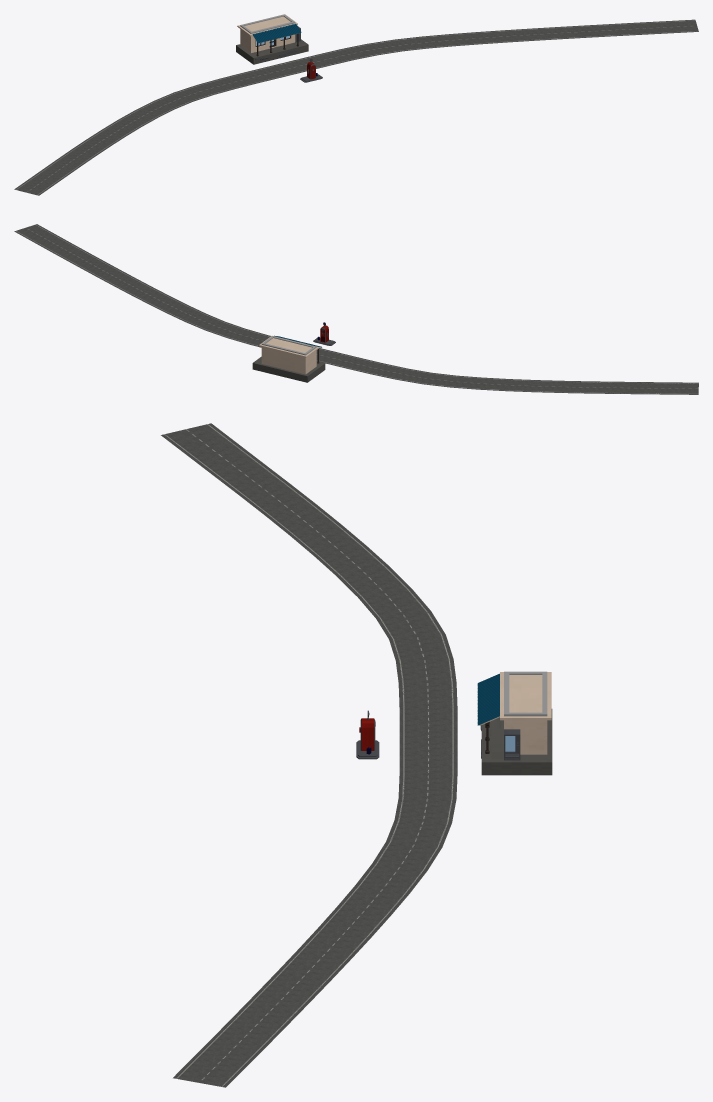
File: gasStation.fbx
3 views of the same model, one above another, from view 1: azimuth 30°, elevation 25°; view 2: azimuth 150°, elevation 25°; view 3: azimuth 270°, elevation 25° (orthographic). The views are drawn at different scales.
Visible parts, largest first — view 1: ruta.001, estacion, Base_Estacion, techo; view 2: ruta.001, estacion, Base_Estacion; view 3: ruta.001, estacion, Base_Estacion, techo.
Part boxes in pixels (left/top/right/bottom): ruta.001: left=14, top=19, right=698, bottom=195; estacion: left=237, top=14, right=297, bottom=52; Base_Estacion: left=236, top=39, right=308, bottom=64; techo: left=252, top=23, right=301, bottom=43; ruta.001: left=14, top=224, right=698, bottom=394; estacion: left=259, top=335, right=319, bottom=374; Base_Estacion: left=252, top=356, right=325, bottom=382; ruta.001: left=161, top=423, right=457, bottom=1087; estacion: left=500, top=671, right=551, bottom=754; Base_Estacion: left=480, top=709, right=552, bottom=775; techo: left=477, top=673, right=499, bottom=725.
Size of the model in its own units: 5744 by 216 by 1431.
Materials: 14 (14 with a texture image).
